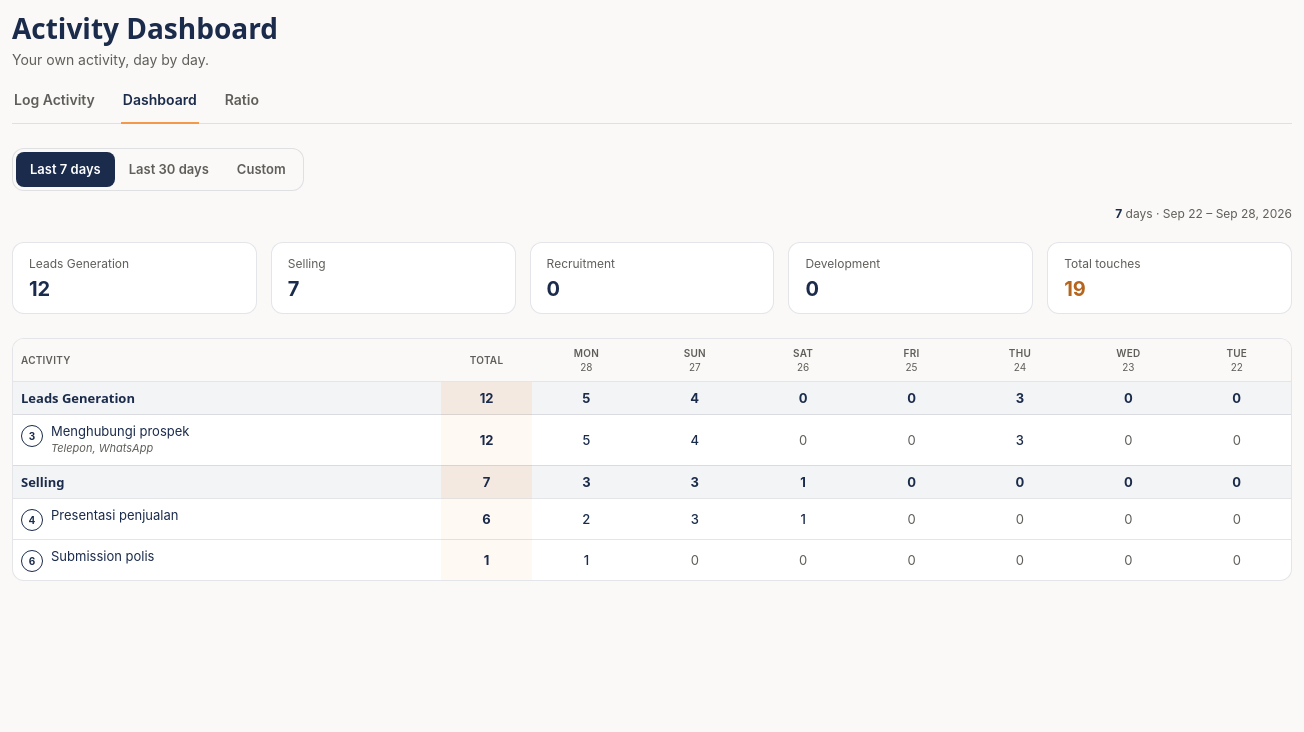
the Activity Dashboard (P10-T1) › AC-2: heads the last 30 days as weeks with their dates, and the two days left over
expect the text "Menghubungi prospek" is shown: met, box [51, 423, 189, 439]
Click the tab "Last 30 days".
click(169, 170)  # box [115, 152, 223, 187]
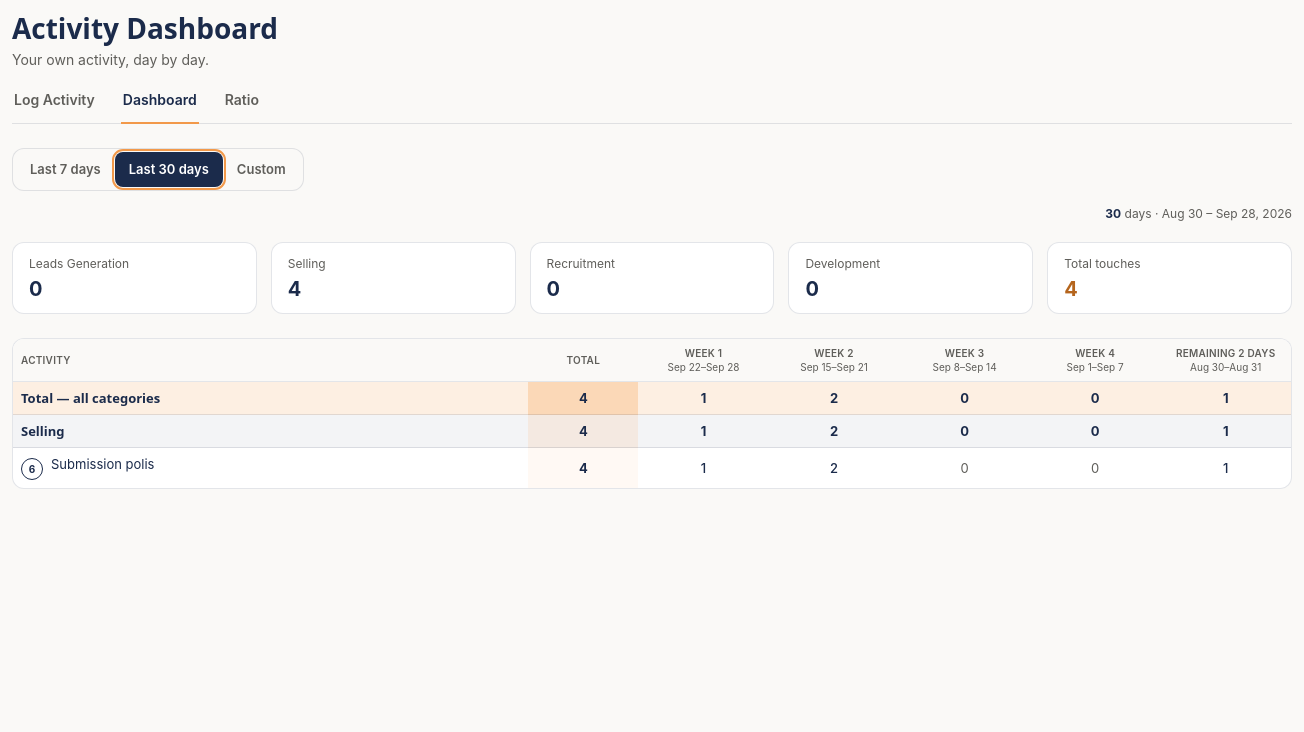
expect the column heading "Week 1 Sep 22–Sep 28" is shown: met, box [638, 339, 769, 381]
expect the column heading "Remaining 2 days Aug 30–Aug 31" is shown: met, box [1160, 339, 1291, 381]
